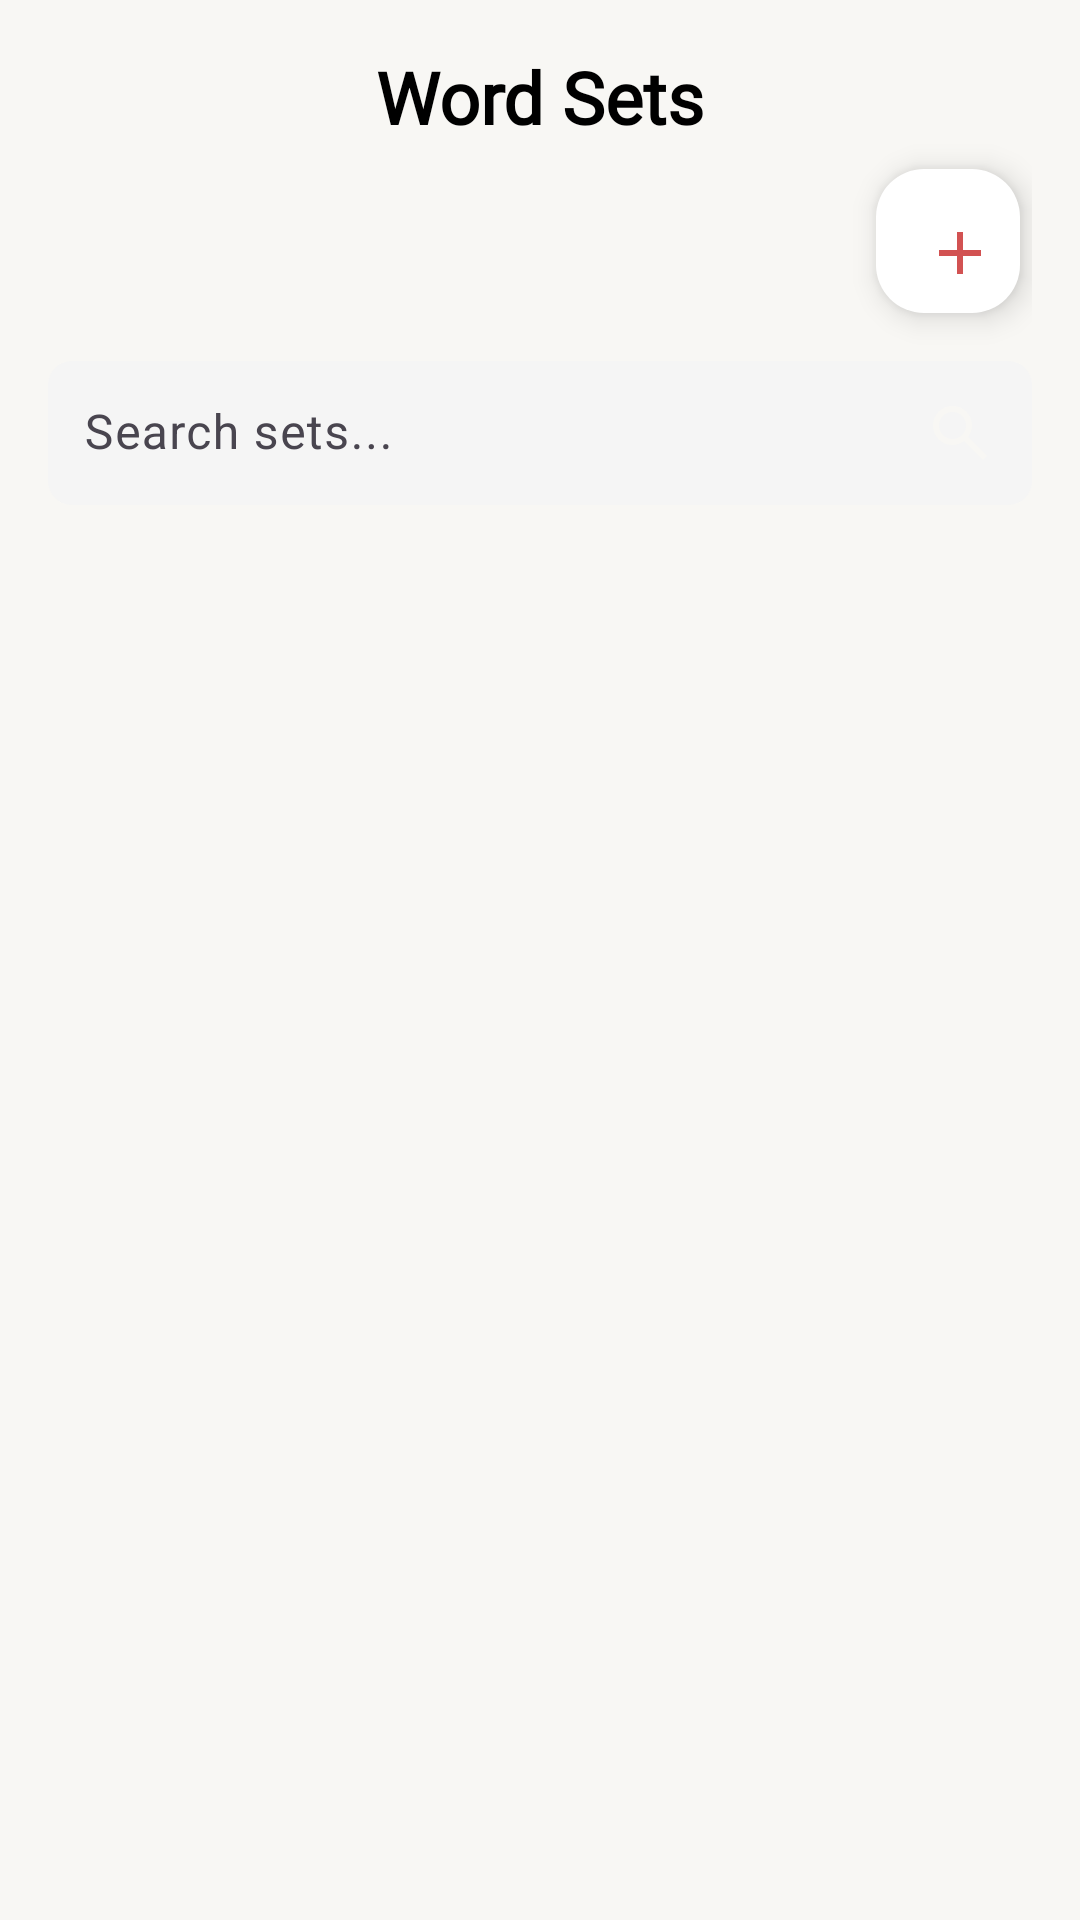

Where to tap for icons on this 1080px x 1920px app screen, as [x,y]:
Add new word set: [948,241]
